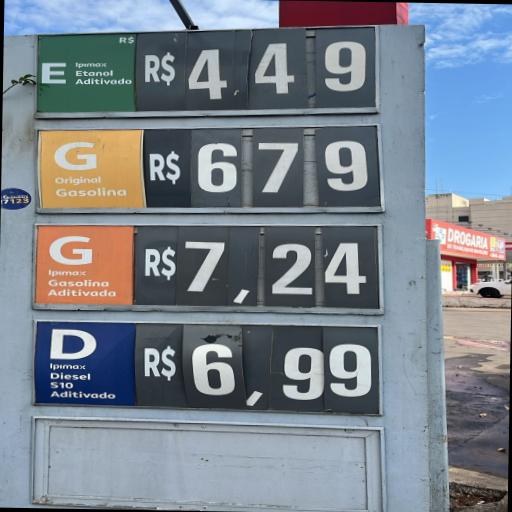ETANOL: (36, 35, 136, 110)
GASOLINA AD: (36, 226, 133, 307)
GASOLINA C: (39, 128, 145, 206)
S10: (36, 321, 135, 405)
placa: (9, 27, 412, 425)
preco: (178, 227, 379, 309), (182, 327, 380, 410), (187, 30, 379, 110), (187, 125, 378, 205)
